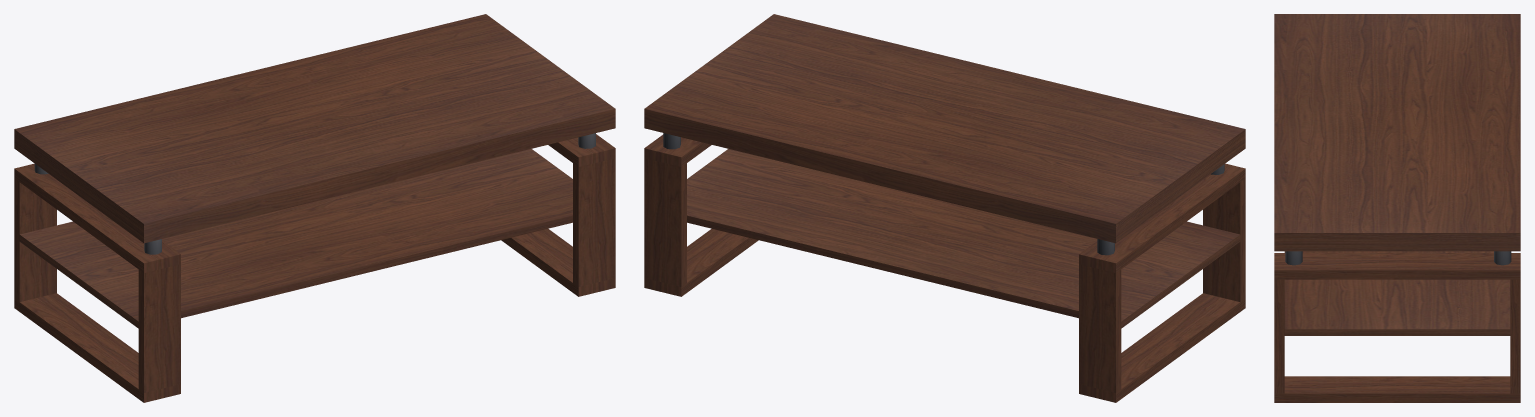
File: tea table.FBX
3 renders of one model, left to right at view 1: azimuth 30°, elevation 25°; view 2: azimuth 150°, elevation 25°; view 3: azimuth 270°, elevation 25°, orthographic. The views are drawn at different scales.
Parts seen in each view (by area): view 1: tea table; view 2: tea table; view 3: tea table.
Boxes of the visible parts, x1,y1,x2,y2 form: tea table: [14, 14, 615, 402]; tea table: [644, 14, 1245, 402]; tea table: [1274, 14, 1520, 402].
Bounding box in the file's own units: 50.81 × 24.17 × 18.42.
